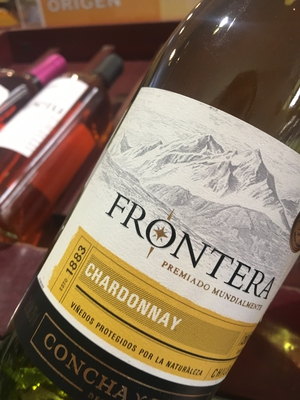frontera chardonnay: (26, 7, 299, 400)
